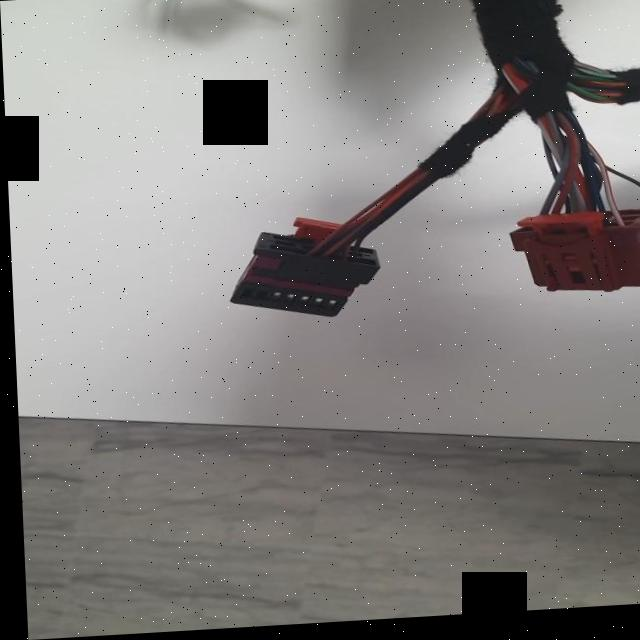connector: (226, 211, 383, 331), (228, 233, 378, 326), (508, 220, 640, 298)
